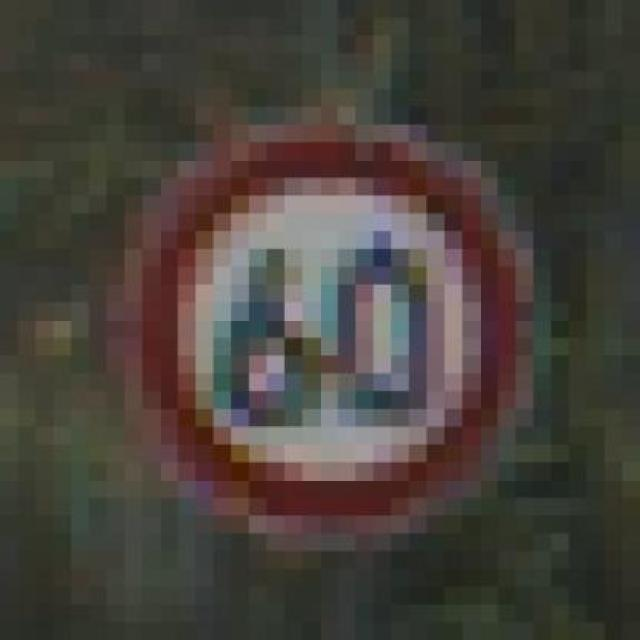forb_speed_over_60: (134, 123, 520, 526)
